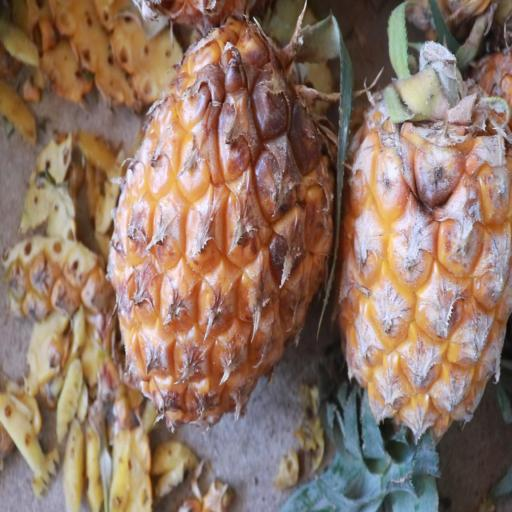Pineapple - v8 v1: (107, 5, 342, 430), (333, 25, 512, 487)
